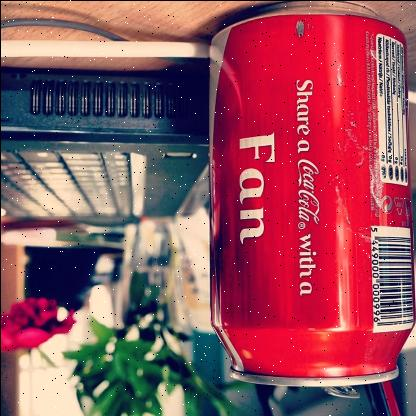Can: (202, 0, 416, 390)
